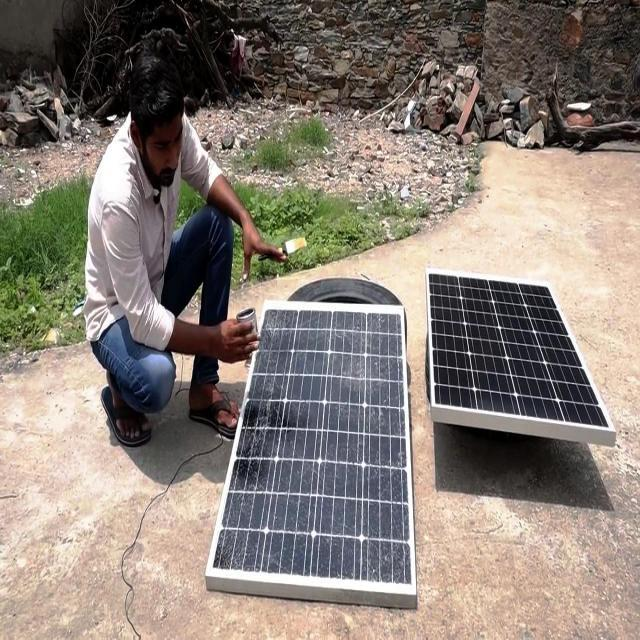faulty: (211, 301, 415, 594)
no faulty: (426, 268, 612, 437)
